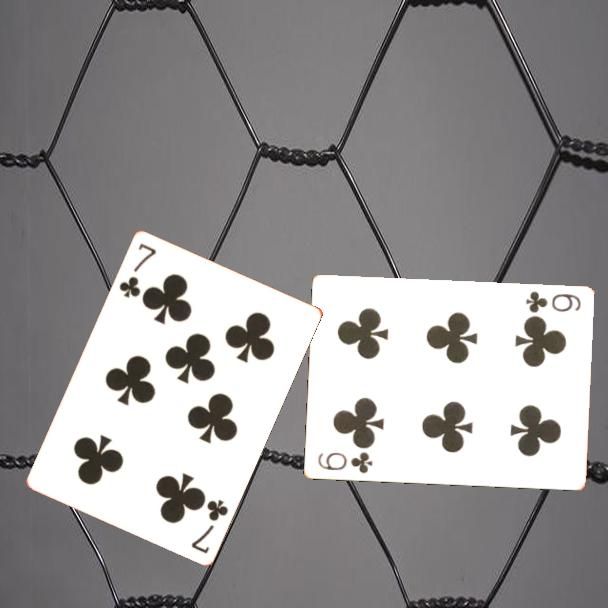c06: (522, 288, 583, 316), (314, 449, 375, 476)
c07: (115, 239, 159, 301), (188, 496, 231, 556)
